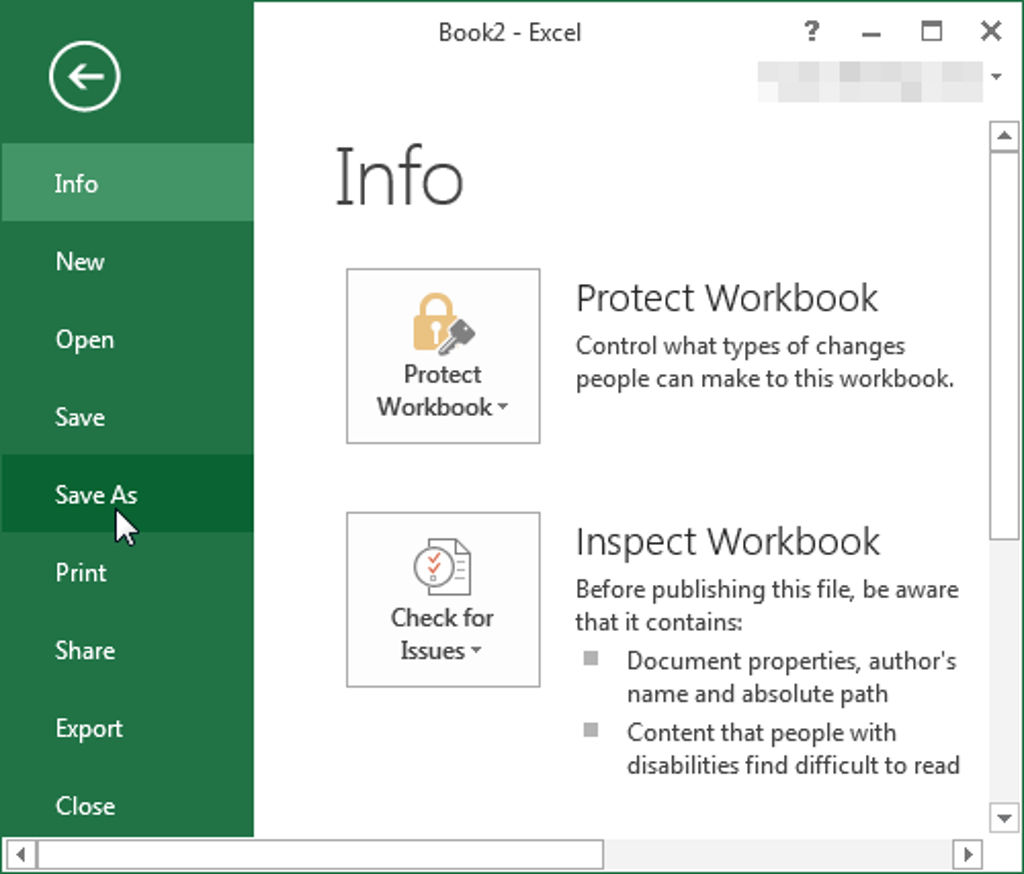button: (345, 266, 544, 446), (346, 510, 542, 688), (37, 838, 605, 874), (1, 684, 253, 765), (1, 297, 254, 377), (1, 376, 254, 455), (1, 220, 254, 298), (1, 606, 254, 684), (1, 144, 254, 221), (1, 456, 254, 532), (1, 533, 254, 607), (1, 767, 253, 836), (990, 152, 1024, 540), (46, 38, 124, 115), (901, 3, 964, 59), (782, 1, 842, 59), (964, 3, 1024, 58), (843, 3, 900, 59), (981, 61, 1020, 102), (2, 838, 38, 874), (989, 121, 1023, 153), (952, 840, 983, 874), (989, 803, 1024, 833)
common: (574, 329, 960, 400), (574, 575, 966, 635)
container: (253, 60, 988, 837), (1, 1, 253, 836), (329, 488, 976, 795), (329, 248, 976, 463), (254, 1, 1023, 61), (1, 837, 986, 874), (988, 120, 1024, 834)
header: (574, 522, 883, 565), (575, 276, 881, 316), (330, 135, 468, 214), (434, 15, 584, 46)
list-bullet: (574, 713, 967, 781), (574, 644, 966, 711)
